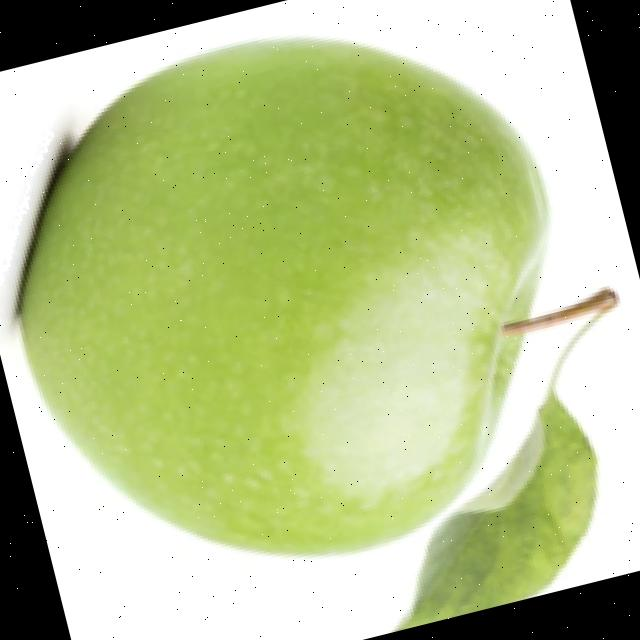apple: (0, 32, 624, 626)
